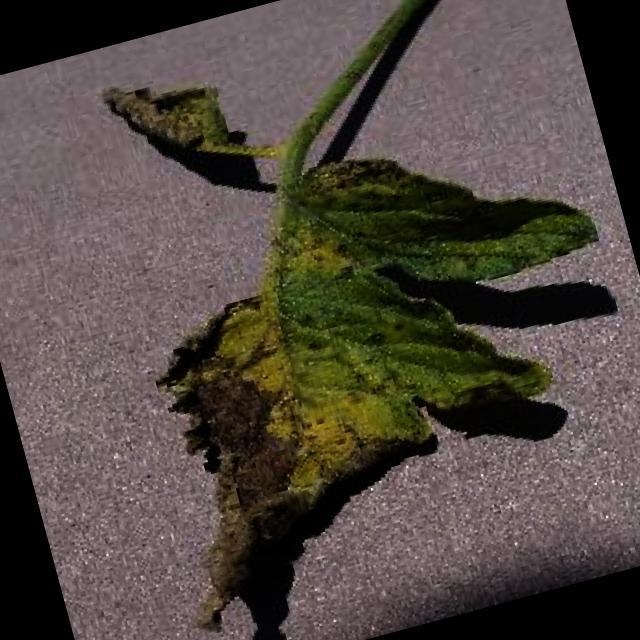Tomato Septoria spot leaf: (53, 0, 640, 636)
